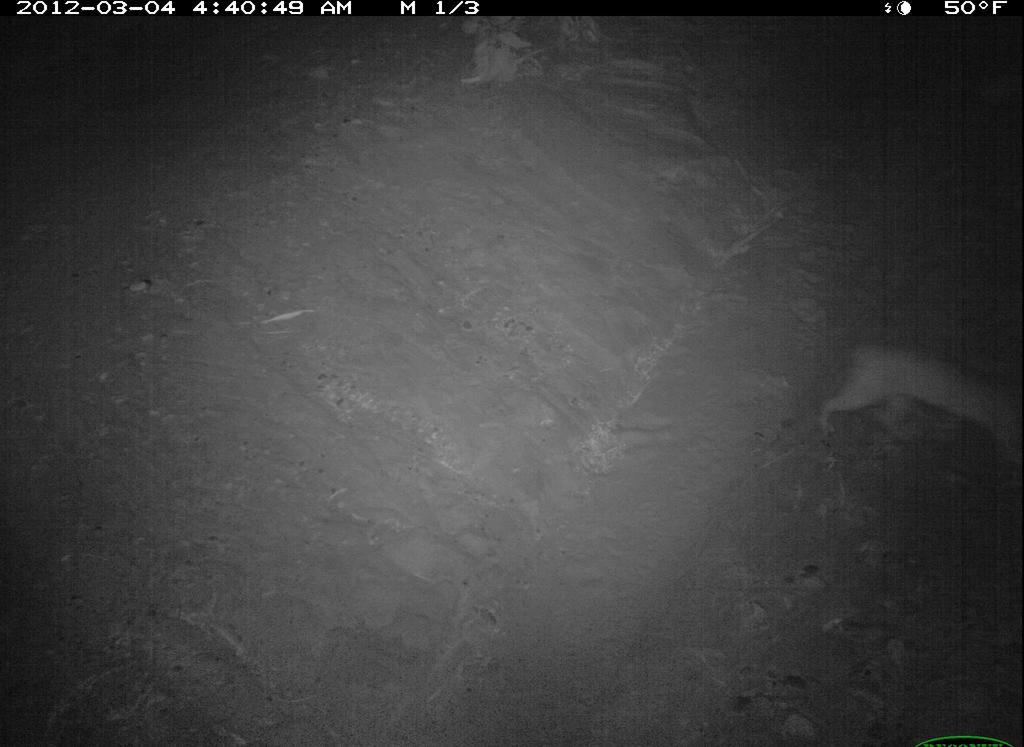bobcat: (812, 335, 1022, 466)
